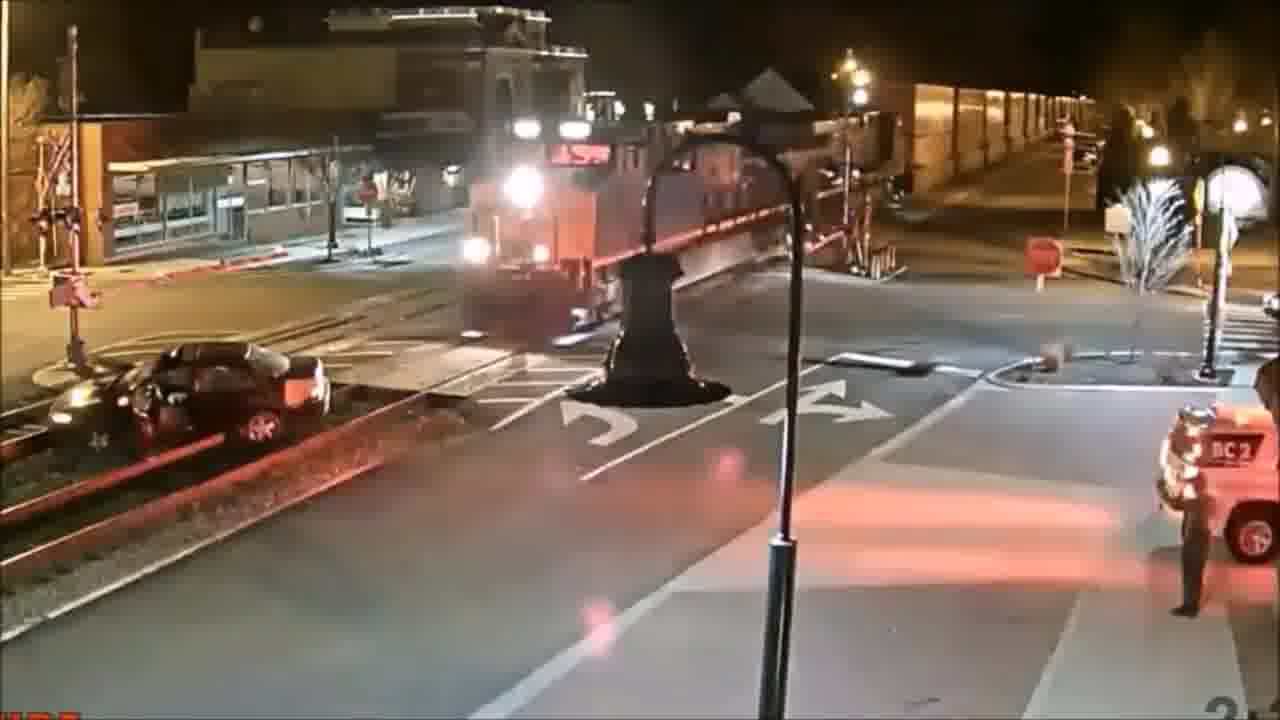crossing railway track: (48, 331, 353, 471)
